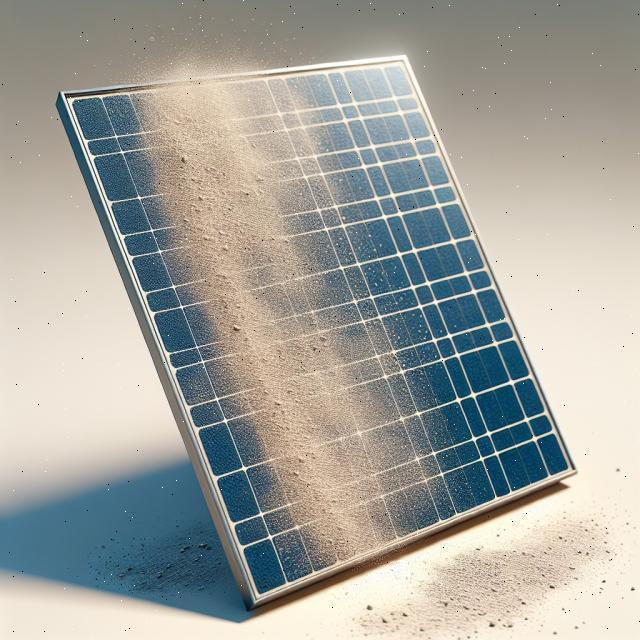Anomaly Solar Panel: (55, 0, 572, 596)
Surface Contaminant: (78, 22, 494, 593)
